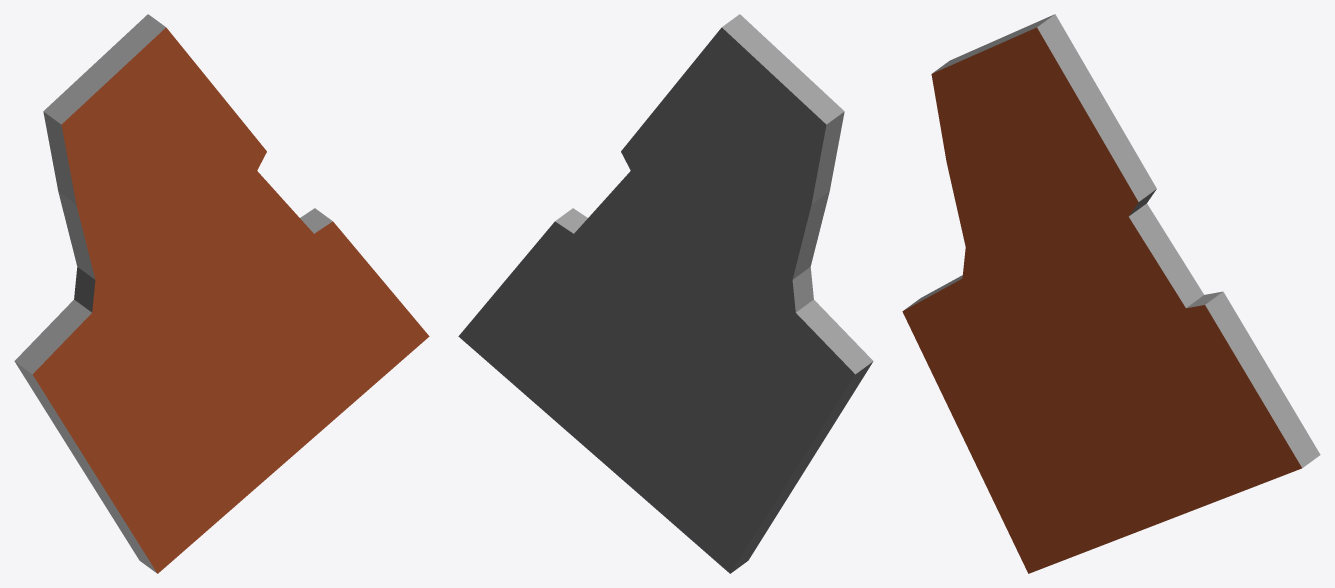
File: construction_0051_assumed_A_Cemiterio_h6m.obj
The picture shows the model from 3 angles, left to right: view 1: azimuth 30°, elevation 25°; view 2: azimuth 150°, elevation 25°; view 3: azimuth 330°, elevation 25°; orthographic projection.
Visible parts, largest first — view 1: construction_0051_assumed_A_Cemiterio; view 2: construction_0051_assumed_A_Cemiterio; view 3: construction_0051_assumed_A_Cemiterio.
Boxes of the visible parts, left/top/right/bottom form: construction_0051_assumed_A_Cemiterio: left=14, top=14, right=429, bottom=573; construction_0051_assumed_A_Cemiterio: left=458, top=14, right=873, bottom=573; construction_0051_assumed_A_Cemiterio: left=902, top=14, right=1320, bottom=573.
Bounding box in the file's own units: 75.68 × 99.2 × 6.
